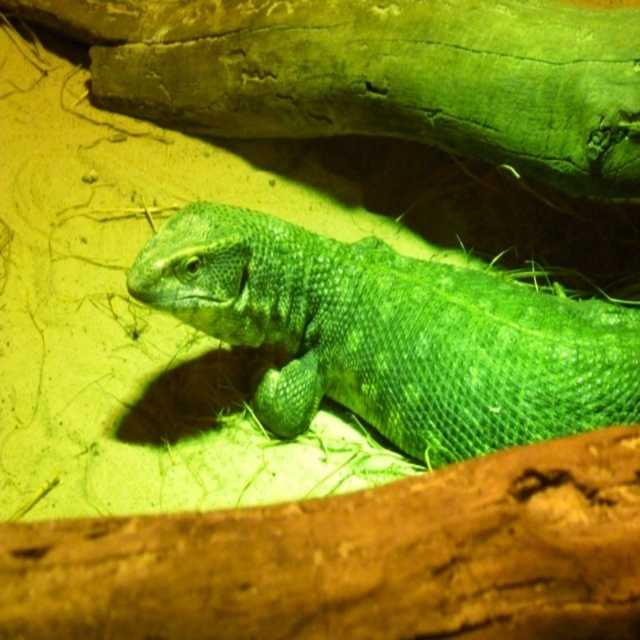Lizard: (126, 200, 640, 467)
